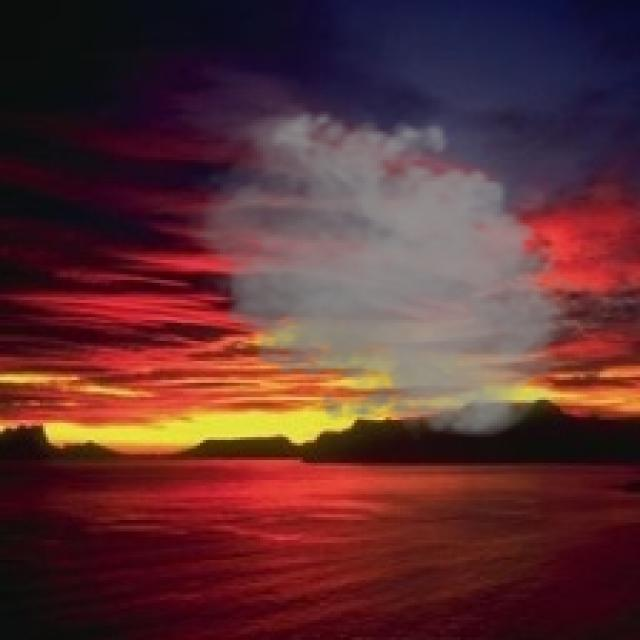smoke: (171, 100, 583, 443)
